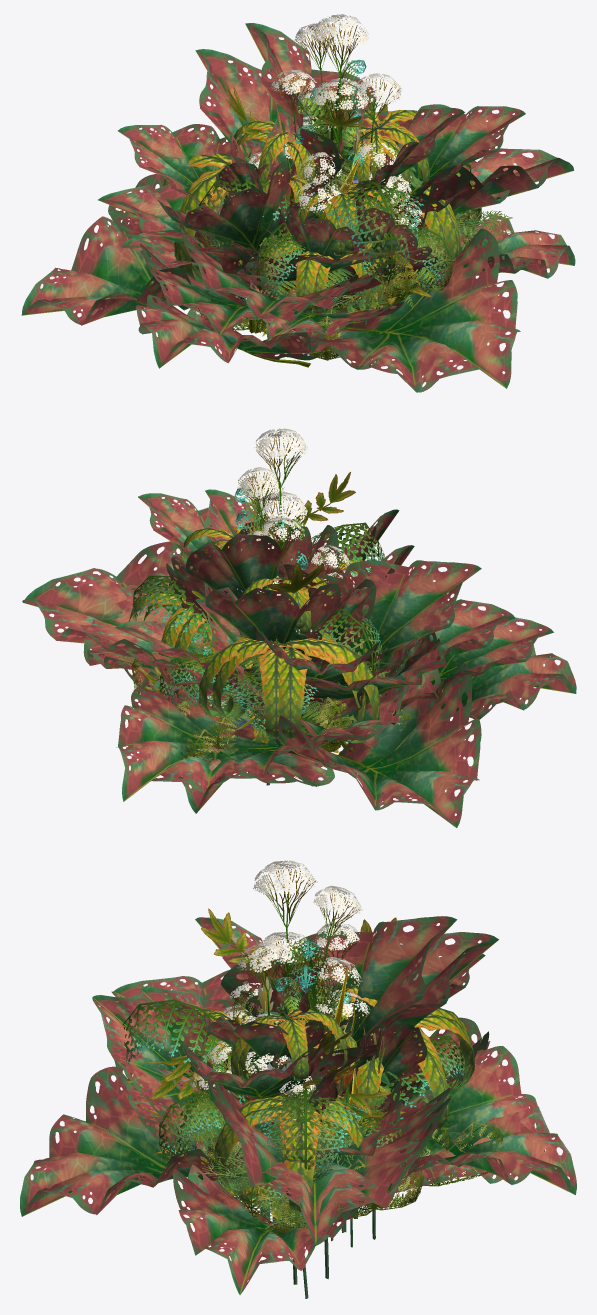
The model's file is SmallPlants.FBX.
3 renders of one model, top to bottom at view 1: azimuth 30°, elevation 25°; view 2: azimuth 150°, elevation 25°; view 3: azimuth 270°, elevation 25°, orthographic. The views are drawn at different scales.
Visible parts, largest first — view 1: Burdock, BurdockV2, BurdockV3, Fern1, PlantBush, PlantSimple6V3, PlantBushV3, PlantSimple6, PlantBushV2, PlantSimple4003, PlantSimple4V4, Fern3 (+7 smaller); view 2: Burdock, BurdockV2, BurdockV3, Fern1, PlantBush, PlantBushV3, PlantSimple6V3, PlantSimple6, Fern3, Fern3V2, Fern2, Fern1V3 (+3 smaller); view 3: Burdock, BurdockV2, BurdockV3, Fern1, PlantBush, PlantSimple6V3, PlantSimple6, PlantSimple4003, PlantSimple4V4, PlantBushV3, Fern3, Fern1V3 (+6 smaller).
Boxes of the visible parts, x1,y1,x2,y2 form: Burdock: [21, 49, 575, 392]; BurdockV2: [118, 23, 525, 340]; BurdockV3: [98, 163, 509, 334]; Fern1: [198, 86, 472, 311]; PlantBush: [191, 110, 481, 311]; PlantSimple6V3: [224, 14, 429, 290]; PlantBushV3: [163, 153, 469, 313]; PlantSimple6: [232, 78, 422, 276]; PlantBushV2: [235, 120, 410, 255]; PlantSimple4003: [270, 115, 432, 304]; PlantSimple4V4: [326, 208, 513, 366]; Fern3: [197, 221, 479, 357]; Burdock: [22, 489, 576, 827]; BurdockV2: [115, 493, 481, 749]; BurdockV3: [79, 576, 553, 813]; Fern1: [132, 512, 408, 739]; PlantBush: [128, 525, 371, 742]; PlantBushV3: [143, 592, 385, 743]; PlantSimple6V3: [178, 428, 355, 737]; PlantSimple6: [240, 492, 350, 660]; Fern3: [134, 649, 410, 764]; Fern3V2: [131, 651, 355, 751]; Fern2: [163, 522, 378, 733]; Fern1V3: [184, 488, 319, 722]; Burdock: [20, 932, 576, 1294]; BurdockV2: [92, 916, 485, 1159]; BurdockV3: [109, 970, 549, 1225]; Fern1: [118, 964, 464, 1217]; PlantBush: [181, 984, 474, 1212]; PlantSimple6V3: [145, 860, 396, 1174]; PlantSimple6: [158, 932, 362, 1104]; PlantSimple4003: [123, 989, 418, 1217]; PlantSimple4V4: [161, 1099, 418, 1298]; PlantBushV3: [214, 1008, 470, 1205]; Fern3: [153, 1077, 502, 1235]; Fern1V3: [215, 939, 364, 1147].
Bounding box in the file's own units: 248 × 154 × 216.
